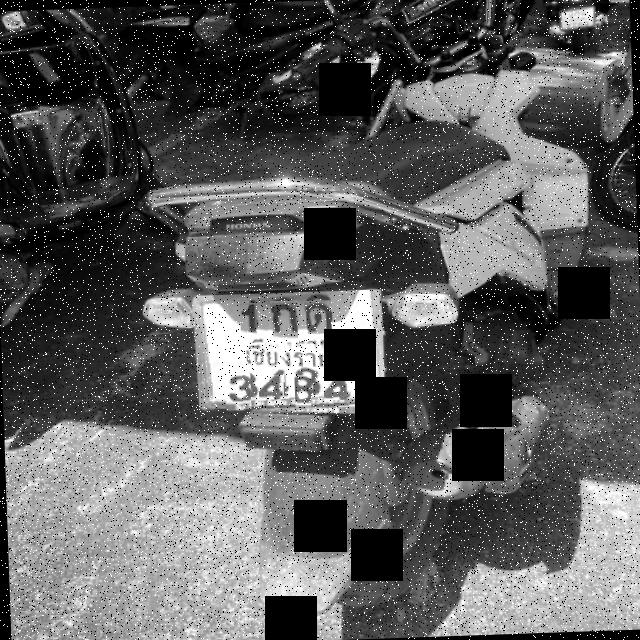letters: (224, 370, 252, 410), (270, 300, 298, 339), (304, 300, 332, 334), (322, 375, 356, 401), (258, 374, 285, 400), (294, 374, 312, 407), (240, 302, 257, 336)
license-plate: (197, 289, 385, 405)
province: (240, 338, 334, 368)
